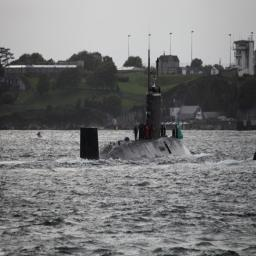submarine: (81, 50, 192, 163)
